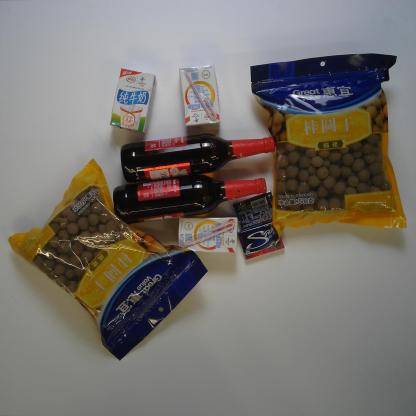Alcohol: (110, 173, 268, 227), (119, 132, 276, 184)
Dried Food: (5, 157, 210, 362), (249, 52, 408, 231)
Gum: (236, 220, 286, 262), (231, 189, 274, 230)
Milk: (109, 66, 158, 136), (179, 63, 222, 131), (176, 216, 239, 256)
